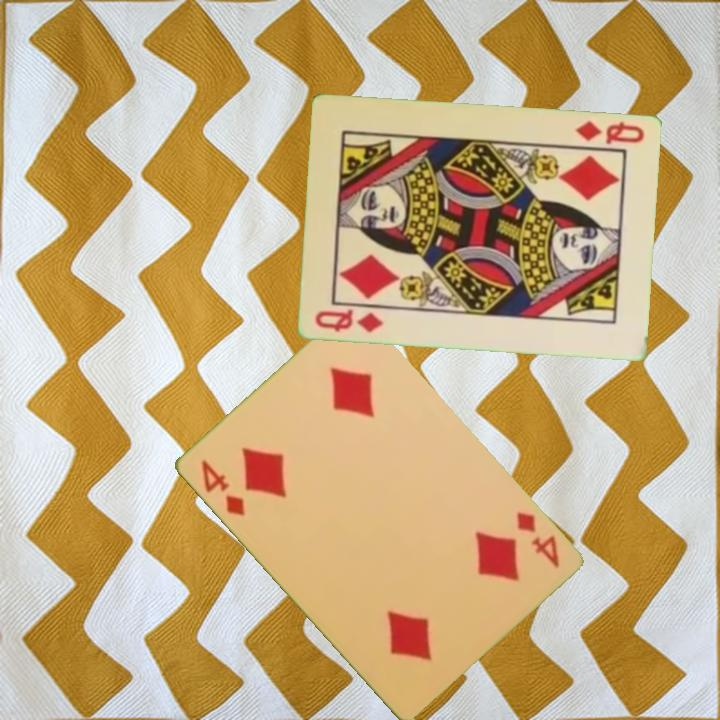4d: (196, 456, 247, 520), (512, 508, 562, 570)
Qd: (312, 305, 387, 335), (572, 117, 648, 146)
